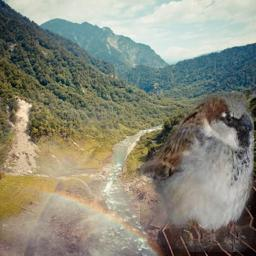Sparrow: (140, 92, 254, 252)
